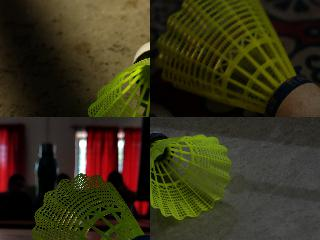shuttlecock: (156, 0, 319, 116), (30, 174, 149, 239), (150, 131, 231, 220), (86, 40, 149, 116)
